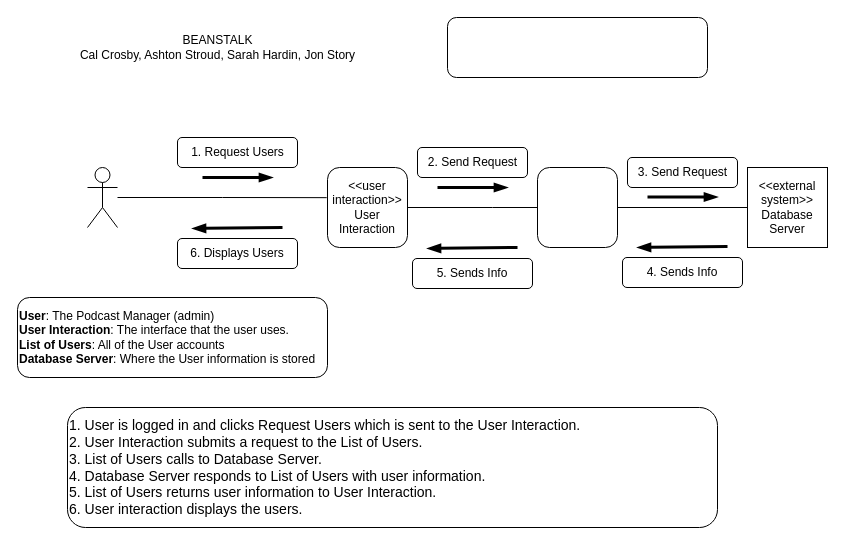
This 845x545 diagram has some shape labels left out. The centre of each missing label's shape, as x and y in pixels:
"<<entity>> List of Users" belongs at (x=577, y=207).
"User" belongs at (x=102, y=197).
"View Users Interaction Diagram" belongs at (x=577, y=47).
